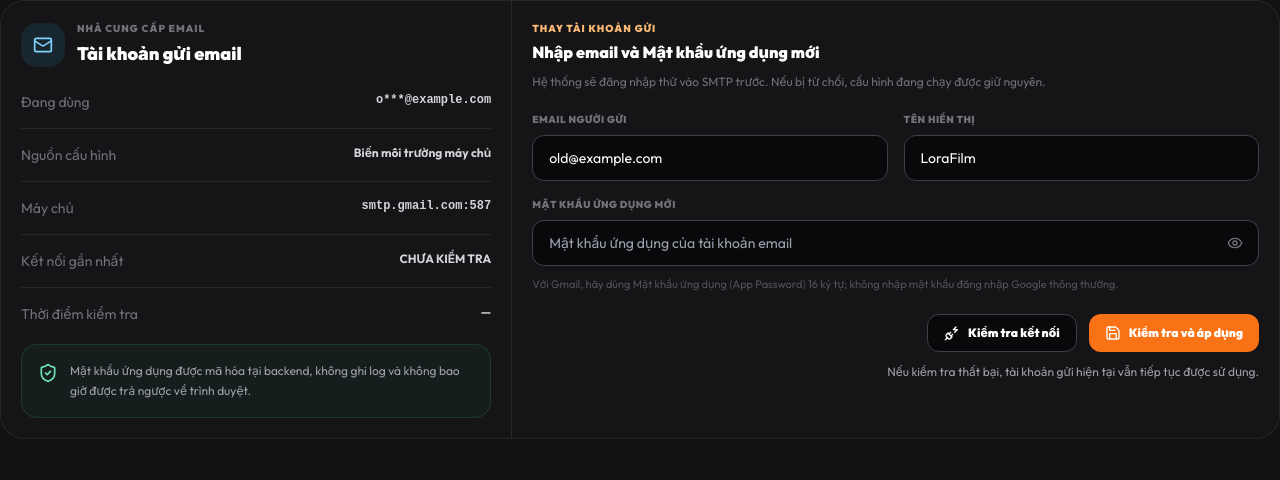
Scenario: EmailProviderConfigurationPanel › shows a clear Vietnamese authentication error
The width and height of the screenshot is (1280, 480).
In the password field labelled "Mật khẩu ứng dụng mới": point(896, 243) [532, 220, 1259, 266], type "invalid-app-password"
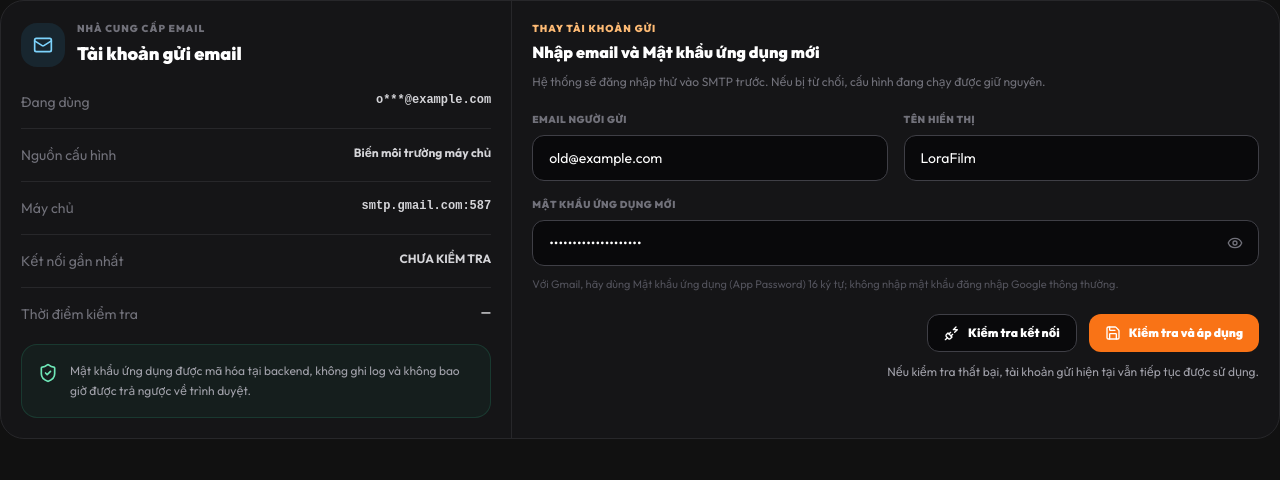
Click the button "Kiểm tra kết nối": point(1002, 333) [927, 314, 1077, 352]
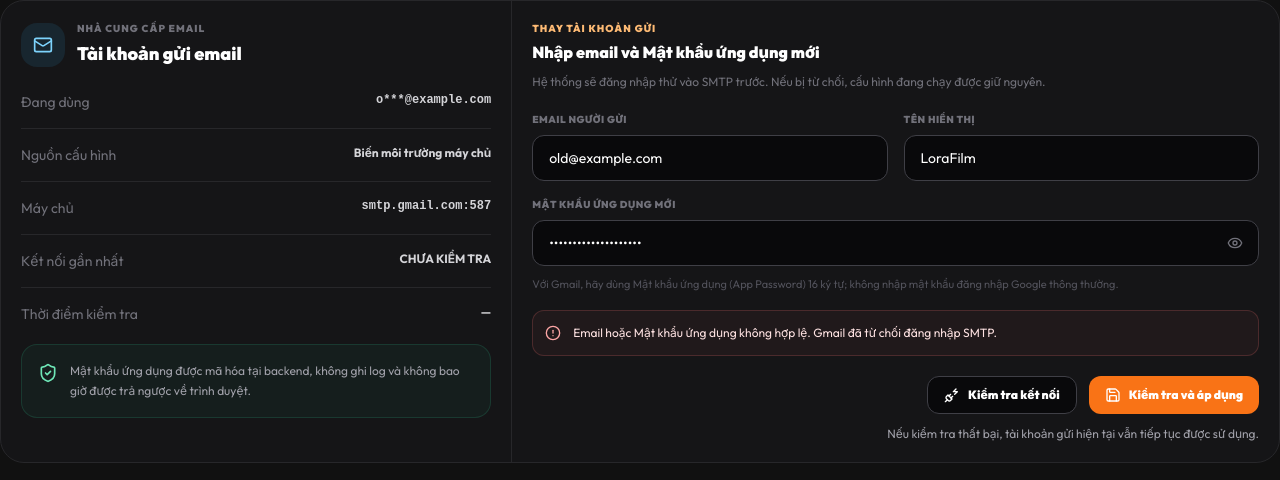
Check: the text "Email hoặc Mật khẩu ứng dụng không hợp lệ. Gmail đã từ chối đăng nhập SMTP." is shown, box [573, 323, 997, 343]
